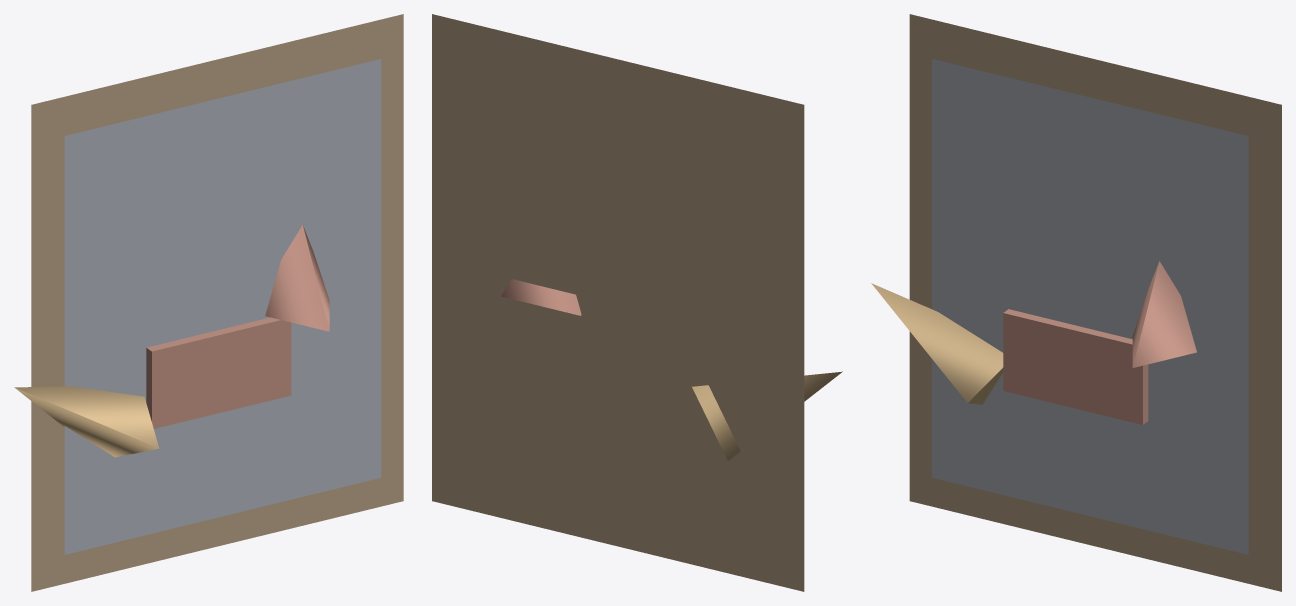
Rendered from portrait-fox.gltf.
The picture shows the model from 3 angles, left to right: view 1: azimuth 30°, elevation 25°; view 2: azimuth 150°, elevation 25°; view 3: azimuth 330°, elevation 25°; orthographic projection.
Parts seen in each view (by area): view 1: Mount, Frame, Body, Tail, Head; view 2: Frame, Tail, Head; view 3: Mount, Frame, Body, Tail, Head.
Part boxes in pixels (x1,y1,x2,y2): Mount: (64, 59, 381, 554); Frame: (31, 14, 403, 591); Body: (146, 317, 291, 428); Tail: (14, 386, 159, 457); Head: (265, 225, 329, 331); Frame: (432, 14, 804, 591); Tail: (692, 371, 842, 460); Head: (501, 279, 581, 315); Mount: (932, 59, 1248, 554); Frame: (909, 14, 1281, 591); Body: (1003, 309, 1148, 424); Tail: (871, 283, 1003, 404); Head: (1132, 261, 1196, 367).
Size of the model in its own units: 0.8598 by 1 by 0.15.
